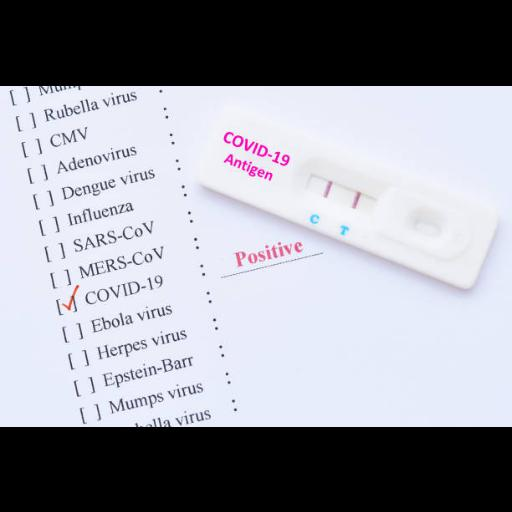Pos: (195, 107, 501, 291)
